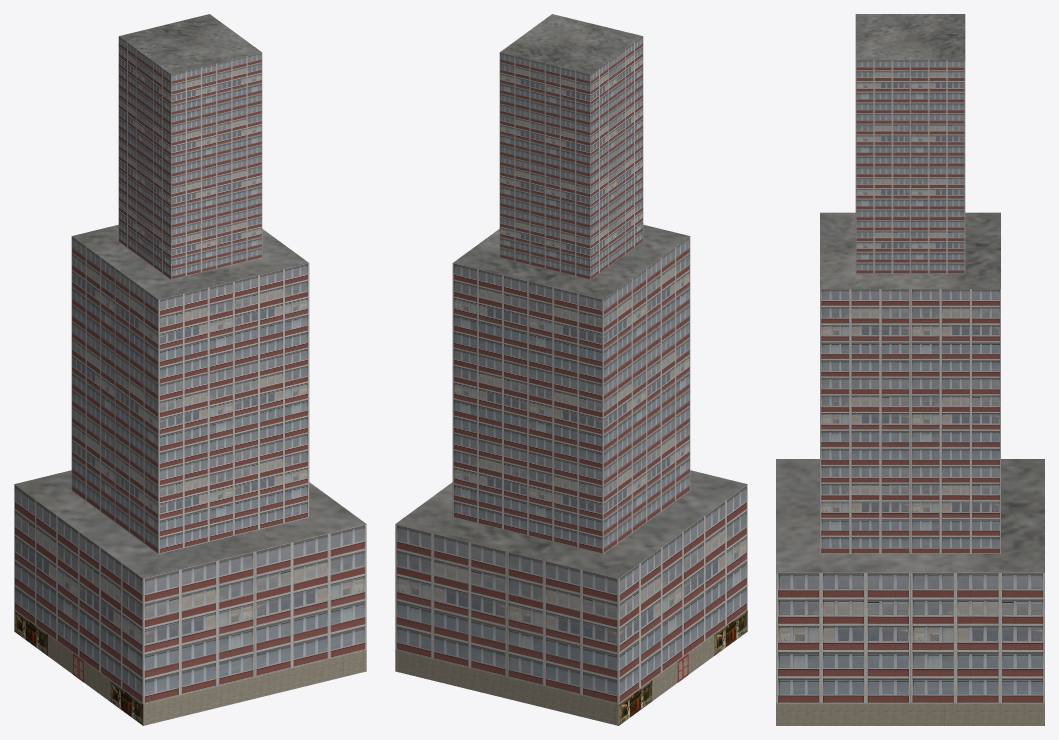
Rendered from Building04.fbx.
The picture shows the model from 3 angles, left to right: view 1: azimuth 30°, elevation 25°; view 2: azimuth 150°, elevation 25°; view 3: azimuth 270°, elevation 25°; orthographic projection. The views are drawn at different scales.
Visible parts, largest first — view 1: Building04; view 2: Building04; view 3: Building04.
Part boxes in pixels (x1,y1,x2,y2): Building04: (14,14,366,725); Building04: (395,14,747,725); Building04: (776,14,1044,725).
Bounding box in the file's own units: 27.68 × 71.87 × 27.68.
